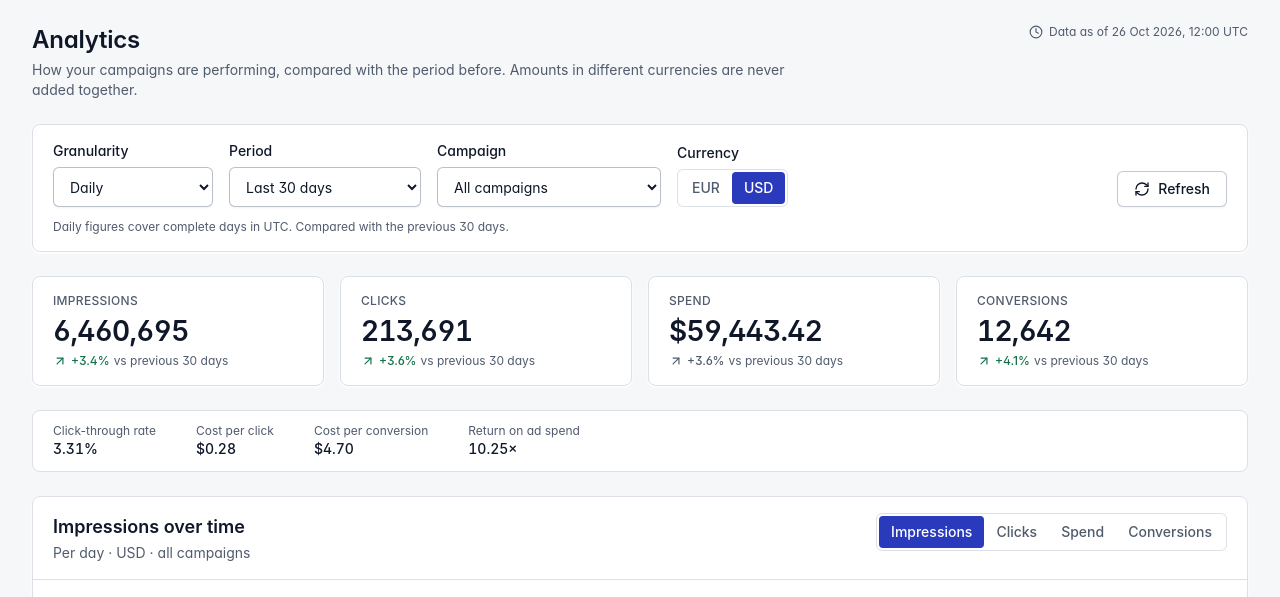
Scenario: AnalyticsView › switches the metric charted
This screenshot has width=1280, height=597.
Click the button "Spend" at [1083, 532], box [1049,516,1116,548]
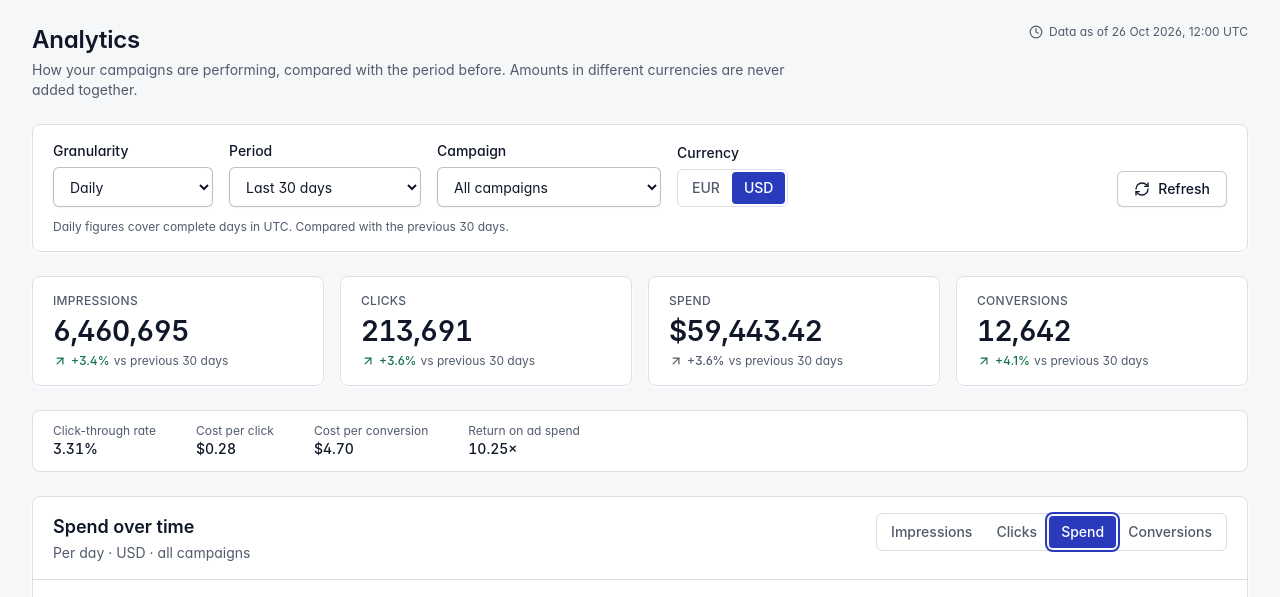
Expected: the heading "Spend over time" is shown, [53,516,194,537]
